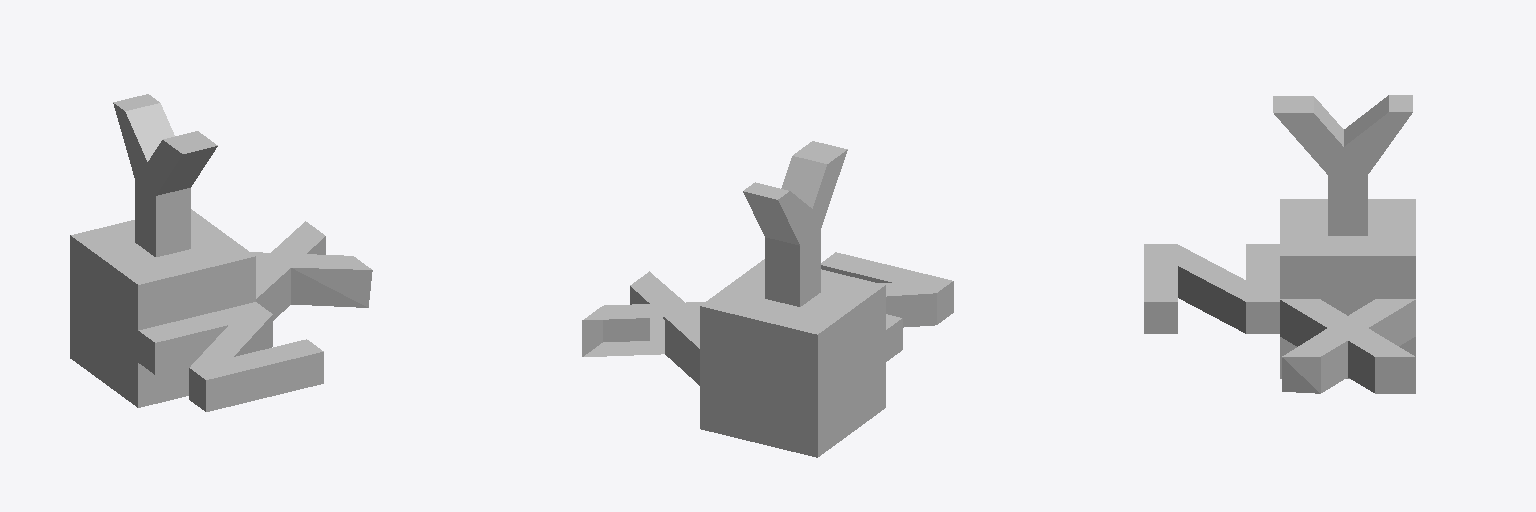
Rendered from coordinates-block.obj.
3 views of the same model, side by side, from view 1: azimuth 30°, elevation 25°; view 2: azimuth 150°, elevation 25°; view 3: azimuth 270°, elevation 25° (orthographic).
Visible parts, largest first — view 1: Cube; view 2: Cube; view 3: Cube.
Part boxes in pixels (bbox=[...]): Cube: bbox=[70, 94, 372, 411]; Cube: bbox=[582, 141, 953, 457]; Cube: bbox=[1144, 95, 1415, 393].
Size of the model in its own units: 4 by 4.01 by 4.